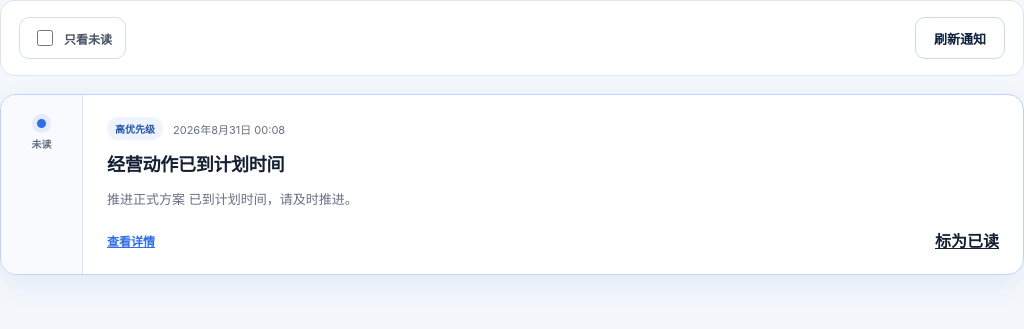
Test: InboxWorkspace › marks read only after the receipt and exposes a retry after failure
This screenshot has width=1024, height=329.
Expected: the heading "经营动作已到计划时间" is shown, [107,154,284,175]
Click the button "标为已读": (967, 240) [935,228,999,252]
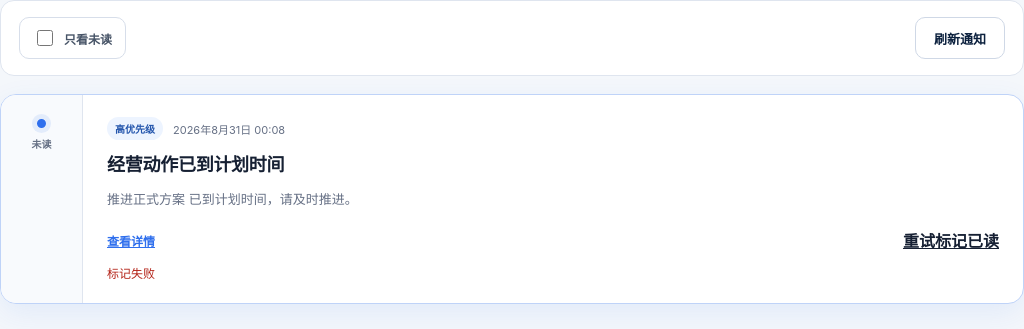
Expected: the text "未读" is shown, [32,136,52,151]
Now the message reads "标记失败", box [107,266,155,281]
Click the button "重试标记已读": (951, 240) [903,228,999,252]
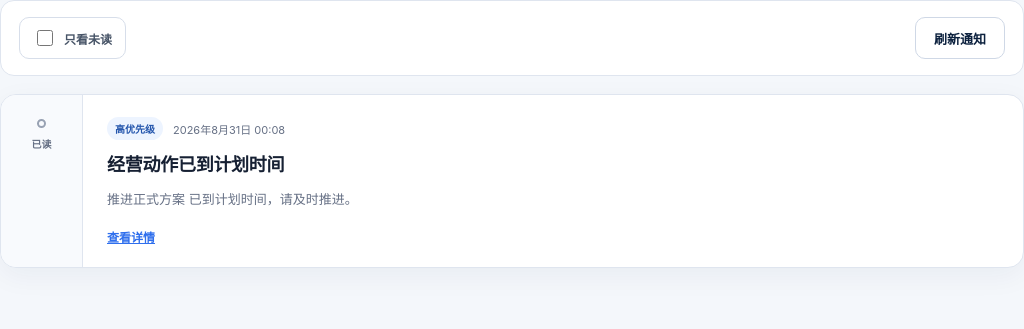
Now the text "已读" is shown, box [32,136,52,151]
